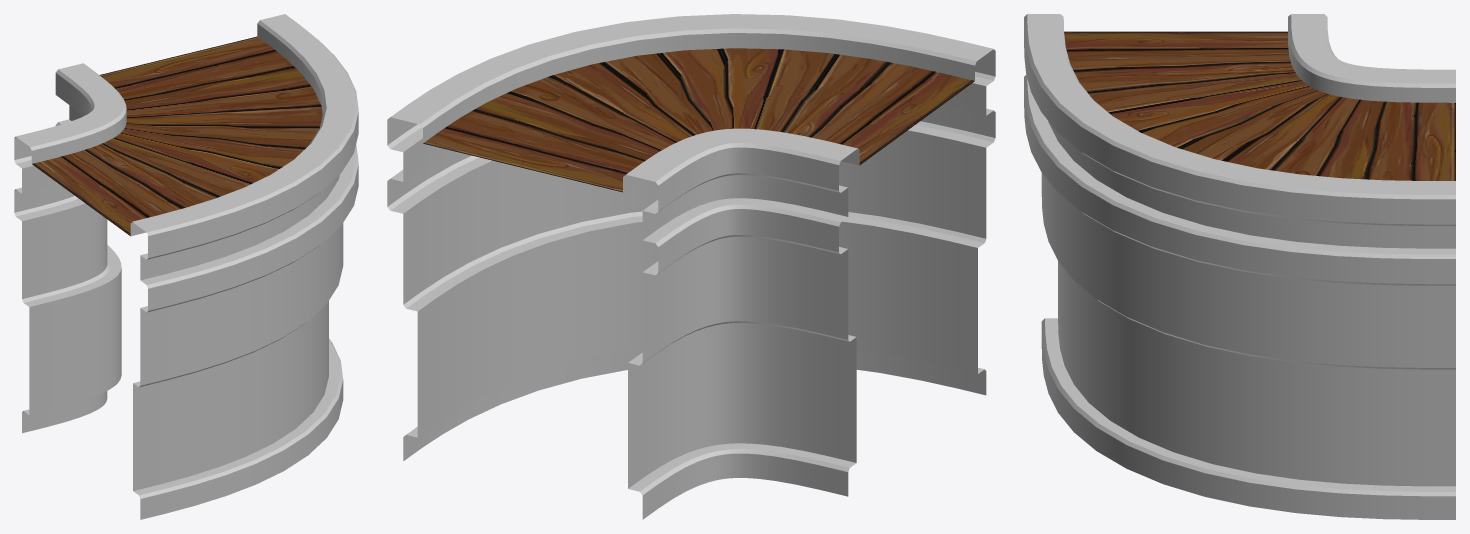
The model's file is Treadmill_Turn_L.fbx.
The picture shows the model from 3 angles, left to right: view 1: azimuth 30°, elevation 25°; view 2: azimuth 150°, elevation 25°; view 3: azimuth 270°, elevation 25°; orthographic projection. The views are drawn at different scales.
Visible parts, largest first — view 1: Treadmill_Turn_L; view 2: Treadmill_Turn_L; view 3: Treadmill_Turn_L.
Boxes of the visible parts, box(x1,y1,x2,y2) form: Treadmill_Turn_L: box(14, 14, 358, 519); Treadmill_Turn_L: box(387, 14, 995, 519); Treadmill_Turn_L: box(1024, 14, 1455, 519).
Bounding box in the file's own units: 0.7709 × 0.6518 × 0.7709.
